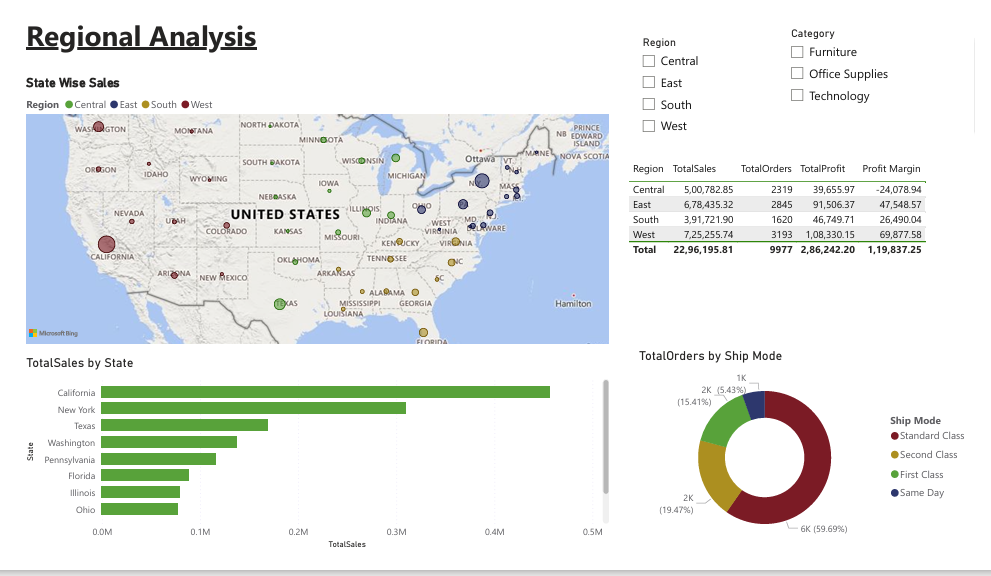

The page's visual inventory and layout, read from the dashboard file:
{"tool":"powerbi","page":{"name":"Regional Analysis","canvas":[1280,720],"ordinal":2},"visuals":[{"type":"textbox","box":[10.2,0,445.1,84.4],"z":0},{"type":"map","title":"State Wise Sales","fields":{"Category":["ecom sales.State"],"Series":["ecom sales.Region"],"Size":["ecom sales.TotalSales"]},"box":[10.2,84.4,786.9,363.6],"z":1000},{"type":"tableEx","fields":{"Values":["ecom sales.Region","ecom sales.TotalSales","ecom sales.TotalOrders","ecom sales.TotalProfit","Sum(ecom sales.Profit Margin)"]},"box":[813.5,193.7,417.7,227.4],"z":1001},{"type":"clusteredBarChart","fields":{"Y":["ecom sales.TotalSales"],"Category":["ecom sales.State"]},"box":[10,458,787,262],"z":1002},{"type":"donutChart","fields":{"Category":["ecom sales.Ship Mode"],"Y":["ecom sales.TotalOrders"]},"box":[826.9,448,453.1,272.8],"z":1003},{"type":"slicer","fields":{"Values":["ecom sales.Region"]},"box":[823.6,26.9,198.7,166.7],"z":1004},{"type":"slicer","fields":{"Values":["ecom sales.Category"]},"box":[1022.3,15.2,208.8,166.7],"z":1005}]}

Visuals, with their boxes on the page's 1280x720 design canvas (x1, y1, x2, y2). These are canvas units, not pixel positions in the 991x576 screenshot, which may show the page scaled, cropped or inside an application window:
textbox: box(10, 0, 455, 84)
"State Wise Sales" map: box(10, 84, 797, 448)
tableEx - ecom sales.Region x ecom sales.TotalSales: box(814, 194, 1231, 421)
clusteredBarChart - ecom sales.TotalSales x ecom sales.State: box(10, 458, 797, 720)
donutChart - ecom sales.Ship Mode x ecom sales.TotalOrders: box(827, 448, 1280, 721)
slicer - ecom sales.Region: box(824, 27, 1022, 194)
slicer - ecom sales.Category: box(1022, 15, 1231, 182)
